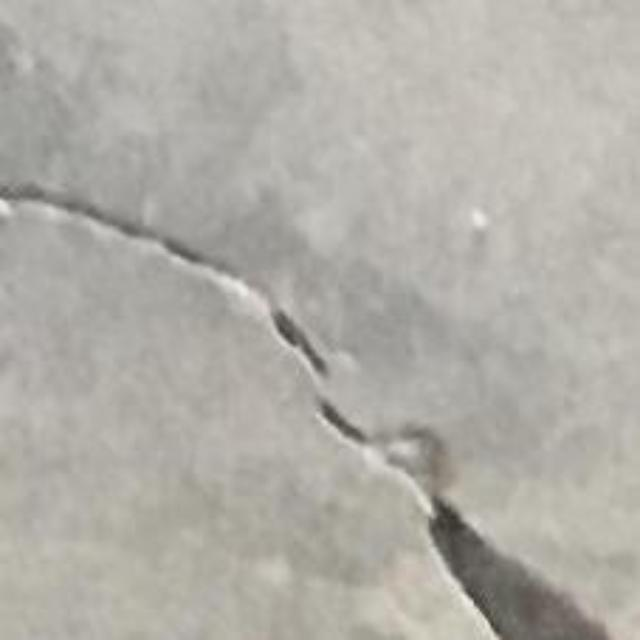crack: (316, 384, 608, 639)
